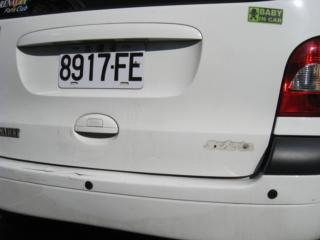plate: (56, 44, 145, 89)
